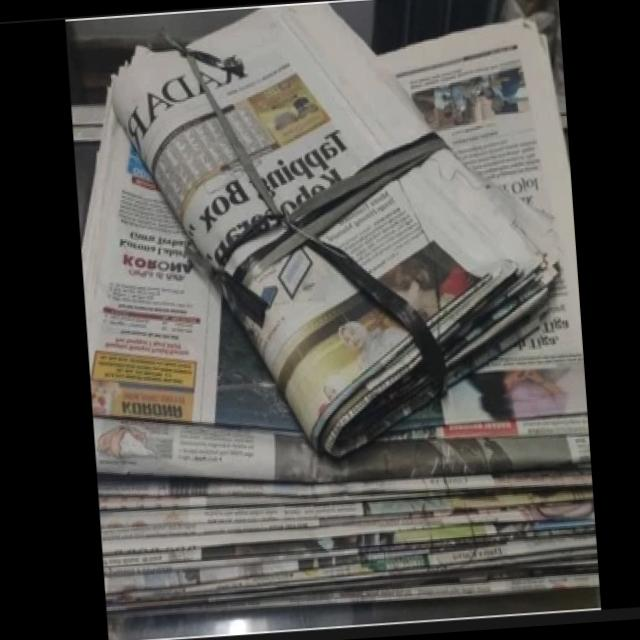Koran: (65, 0, 607, 640)
